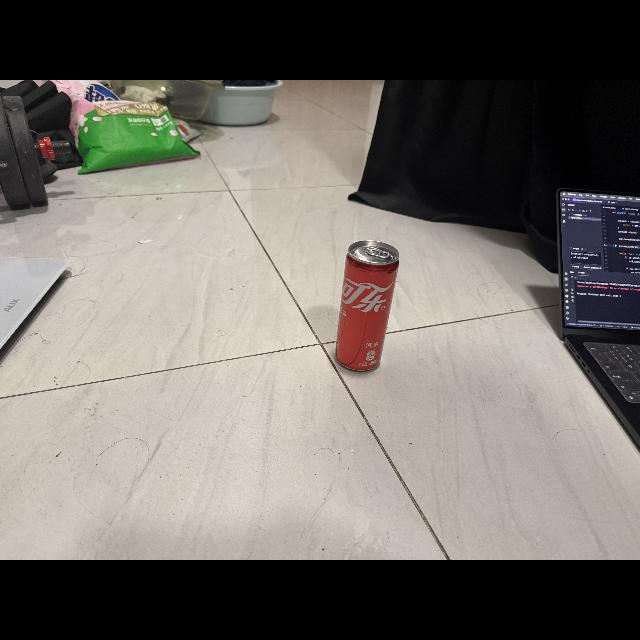Cola: (328, 236, 404, 376)
